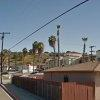Palm tree: (28, 34, 60, 67)
